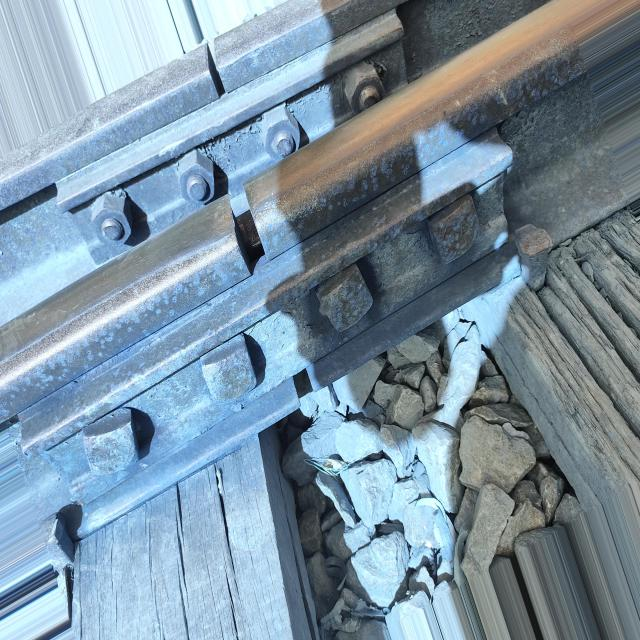crack: (202, 182, 283, 278), (191, 35, 247, 112), (276, 366, 338, 418)
